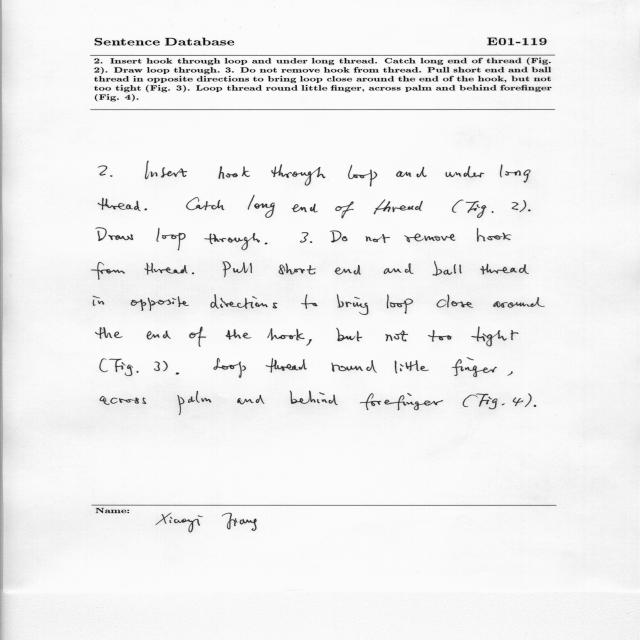word: (360, 393, 443, 410), (272, 164, 326, 186), (210, 294, 278, 309), (204, 233, 260, 250), (471, 327, 519, 346), (131, 296, 189, 311), (452, 358, 497, 377), (177, 391, 212, 415), (145, 161, 187, 179), (374, 200, 423, 215), (337, 294, 369, 315), (290, 391, 338, 405), (214, 358, 246, 378), (157, 228, 186, 250), (248, 195, 275, 218), (266, 358, 307, 373), (91, 262, 125, 280), (348, 165, 377, 186), (331, 360, 377, 373), (493, 297, 545, 308), (500, 164, 530, 183), (98, 198, 141, 211), (387, 294, 413, 314), (145, 263, 188, 275), (109, 359, 139, 376), (186, 197, 224, 210), (267, 328, 305, 341), (480, 264, 529, 274), (96, 228, 133, 241), (466, 201, 494, 218), (477, 228, 511, 242), (437, 295, 473, 308), (223, 262, 252, 278), (404, 234, 455, 243), (432, 261, 462, 276), (279, 263, 316, 275), (395, 360, 429, 373), (476, 394, 505, 409), (446, 166, 485, 177), (218, 166, 250, 179), (100, 396, 146, 405), (189, 327, 206, 347), (336, 328, 362, 341), (96, 327, 123, 339), (335, 202, 354, 219), (384, 263, 413, 274), (396, 167, 427, 177), (428, 330, 452, 342), (226, 329, 252, 340), (335, 265, 361, 275), (301, 294, 318, 309), (291, 204, 318, 213), (238, 395, 265, 404), (386, 331, 408, 342), (365, 234, 390, 243), (147, 331, 171, 340), (330, 231, 347, 243), (463, 395, 478, 407), (452, 200, 464, 213), (100, 359, 108, 373), (98, 165, 108, 176), (93, 296, 104, 306), (300, 232, 309, 243), (513, 398, 524, 407), (520, 200, 527, 212), (525, 394, 531, 407), (154, 361, 160, 371), (163, 361, 168, 371), (512, 202, 518, 210), (306, 339, 312, 346), (507, 371, 513, 376), (110, 175, 113, 177), (265, 243, 268, 245), (176, 373, 179, 375), (534, 405, 537, 407), (145, 209, 147, 211), (528, 210, 530, 212), (310, 241, 312, 243), (192, 273, 194, 275)
